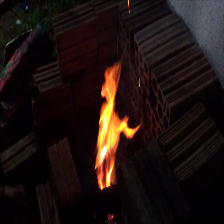fire_h: (95, 62, 141, 189)
fire_l: (126, 1, 130, 12), (138, 75, 141, 88), (108, 214, 113, 219)
